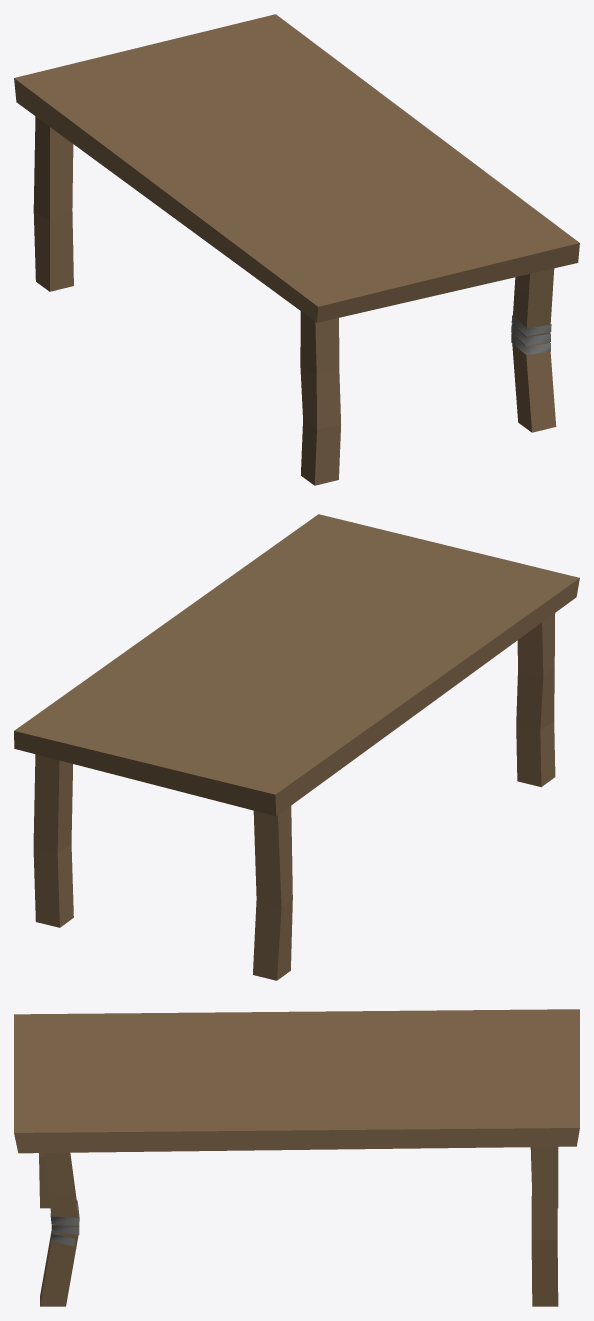
Rendered from table.glb.
The picture shows the model from 3 angles, top to bottom: view 1: azimuth 30°, elevation 25°; view 2: azimuth 150°, elevation 25°; view 3: azimuth 270°, elevation 25°; orthographic projection. The views are drawn at different scales.
Visible parts, largest first — view 1: Table top, Table leg 001, Table leg 001.003, Table leg 001.001, tape; view 2: Table top, Table leg 001.002, Table leg 001.003, Table leg 001; view 3: Table top, Table leg 001.002, Table leg 001.001, tape, Table leg 001.
Boxes of the visible parts, x1,y1,x2,y2 form: Table top: (14, 14, 579, 322); Table leg 001: (300, 311, 340, 485); Table leg 001.003: (33, 116, 73, 291); Table leg 001.001: (511, 268, 556, 432); tape: (511, 315, 551, 354); Table top: (14, 514, 579, 816); Table leg 001.002: (33, 754, 73, 927); Table leg 001.003: (253, 806, 292, 980); Table leg 001: (516, 613, 555, 787); Table top: (14, 1009, 579, 1153); Table leg 001.002: (531, 1147, 558, 1306); Table leg 001.001: (40, 1152, 79, 1306); tape: (50, 1200, 79, 1246); Table leg 001: (39, 1153, 50, 1208).
Bounding box in the file's own units: 1.23 × 0.8808 × 2.46.
